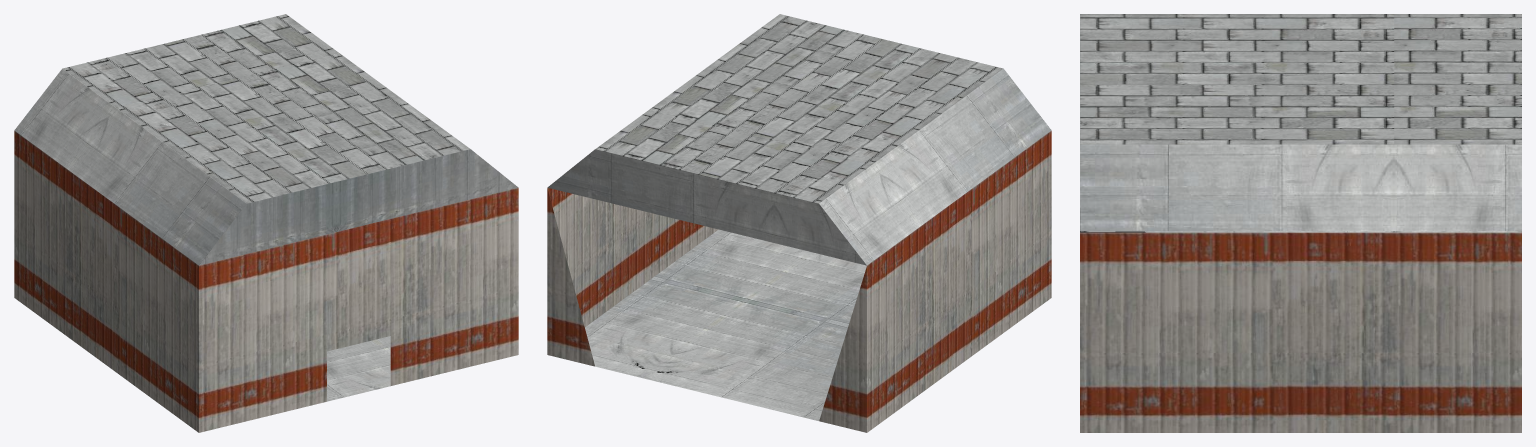
The model's file is Hangar.dae.
The picture shows the model from 3 angles, left to right: view 1: azimuth 30°, elevation 25°; view 2: azimuth 150°, elevation 25°; view 3: azimuth 270°, elevation 25°; orthographic projection. The views are drawn at different scales.
Parts seen in each view (by area): view 1: Cube; view 2: Cube; view 3: Cube.
Part boxes in pixels (left/top/right/bottom): Cube: left=14, top=14, right=518, bottom=432; Cube: left=547, top=14, right=1051, bottom=432; Cube: left=1080, top=14, right=1521, bottom=432.
Size of the model in its own units: 47.89 by 47.89 by 31.13.
Materials: 1 (1 with a texture image).
